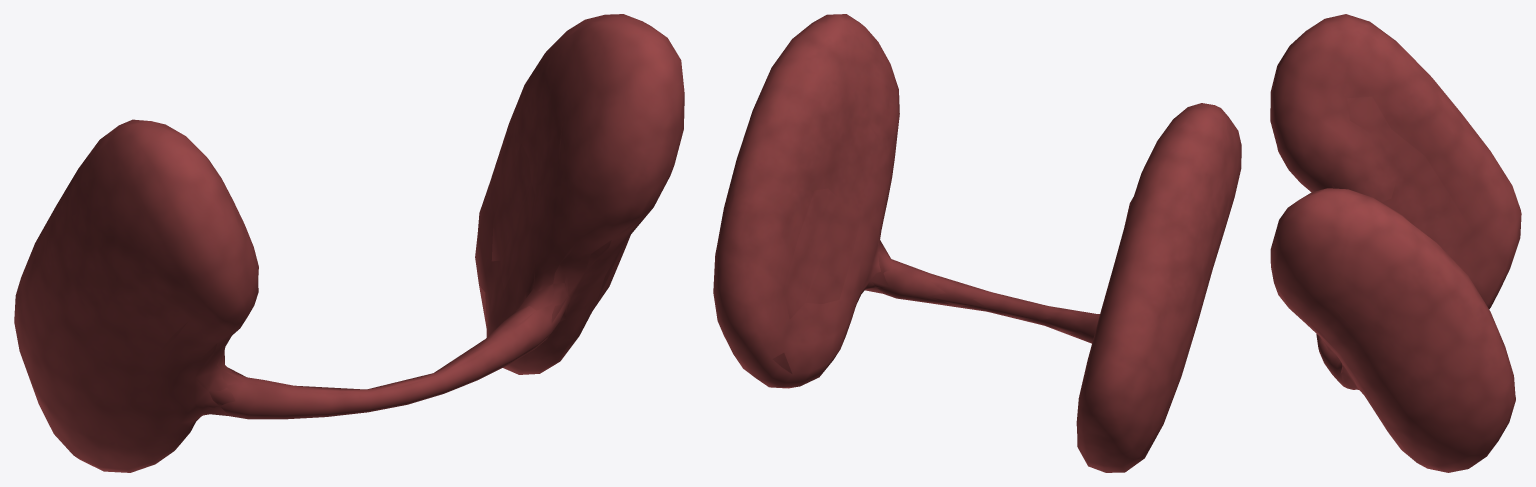
Rendered from Thyroid Gland.fbx.
3 views of the same model, side by side, from view 1: azimuth 30°, elevation 25°; view 2: azimuth 150°, elevation 25°; view 3: azimuth 270°, elevation 25° (orthographic). The views are drawn at different scales.
Parts seen in each view (by area): view 1: Thyroid Gland, Thyroid Gland low; view 2: Thyroid Gland, Thyroid Gland low; view 3: Thyroid Gland, Thyroid Gland low.
Boxes of the visible parts, x1,y1,x2,y2 form: Thyroid Gland: (14, 14, 684, 472); Thyroid Gland low: (157, 121, 652, 421); Thyroid Gland: (713, 14, 1241, 472); Thyroid Gland low: (772, 113, 1093, 373); Thyroid Gland: (1270, 14, 1521, 472); Thyroid Gland low: (1305, 96, 1472, 410).
Bounding box in the file's own units: 6.52 × 4.48 × 3.45.
